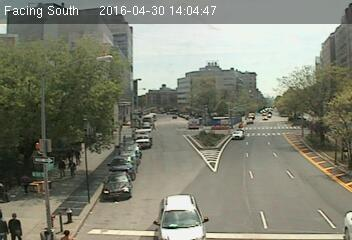pos: (5, 210, 25, 237), (62, 156, 80, 181)
